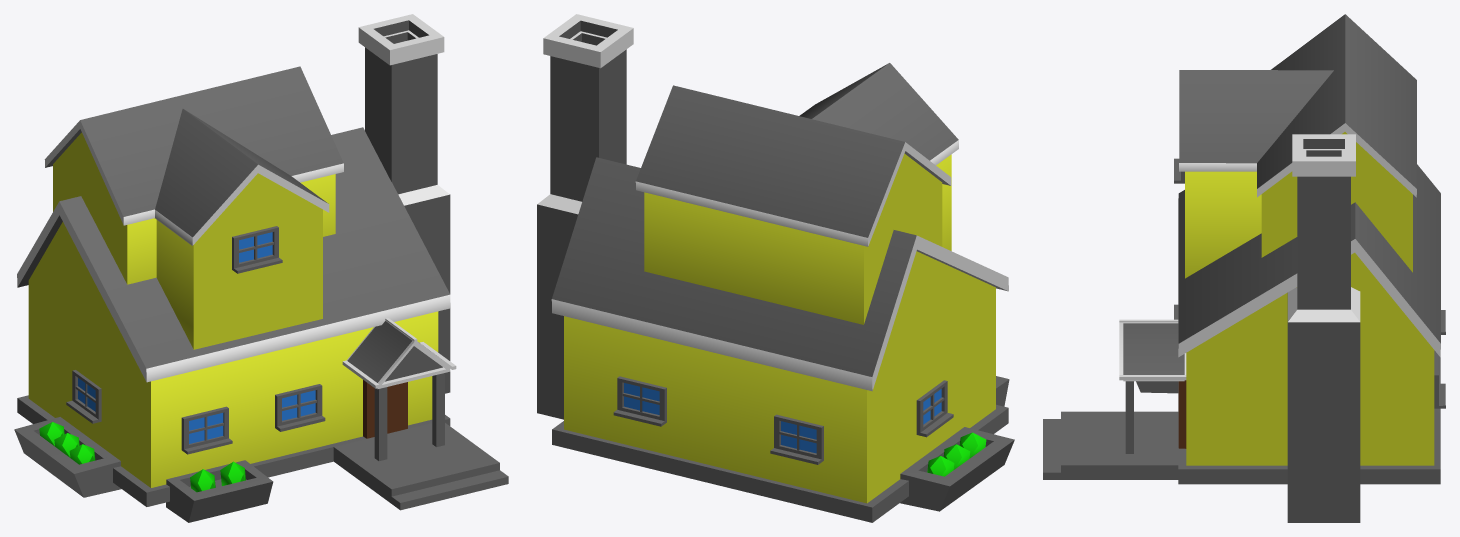
The model's file is storreVillaGul.fbx.
3 views of the same model, side by side, from view 1: azimuth 30°, elevation 25°; view 2: azimuth 150°, elevation 25°; view 3: azimuth 270°, elevation 25° (orthographic). The views are drawn at different scales.
Parts seen in each view (by area): view 1: Cube.005, Cube.004, Cube.003; view 2: Cube.005, Cube.004; view 3: Cube.005, Cube.004, Cube.003.
Part boxes in pixels (box(x1,y1,x2,y2)): Cube.005: box(14, 66, 508, 522); Cube.004: box(358, 14, 450, 393); Cube.003: box(342, 318, 456, 389); Cube.005: box(551, 63, 1014, 522); Cube.004: box(537, 14, 633, 419); Cube.005: box(1043, 14, 1445, 484); Cube.004: box(1287, 134, 1360, 522); Cube.003: box(1119, 319, 1186, 381).
Size of the model in its own units: 1280 by 1094 by 1109.
